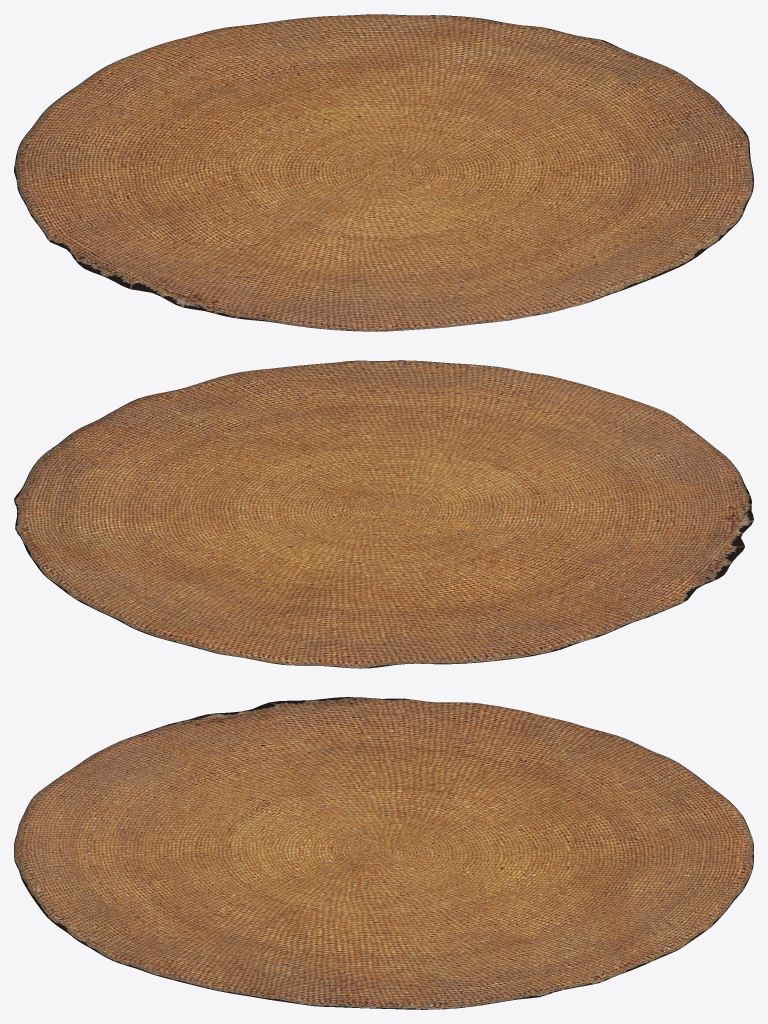
File: unhyun__straw_mat_a.glb
The picture shows the model from 3 angles, top to bottom: view 1: azimuth 30°, elevation 25°; view 2: azimuth 150°, elevation 25°; view 3: azimuth 270°, elevation 25°; orthographic projection. The views are drawn at different scales.
Visible parts, largest first — view 1: SM_StrawMat373_M_StrawMat373_0; view 2: SM_StrawMat373_M_StrawMat373_0; view 3: SM_StrawMat373_M_StrawMat373_0.
Part boxes in pixels (bbox=[...]): SM_StrawMat373_M_StrawMat373_0: bbox=[14, 14, 753, 331]; SM_StrawMat373_M_StrawMat373_0: bbox=[14, 360, 753, 668]; SM_StrawMat373_M_StrawMat373_0: bbox=[14, 697, 753, 1009].
Size of the model in its own units: 1.63 by 0.0223 by 1.63.
Materials: 1 (1 with a texture image).
